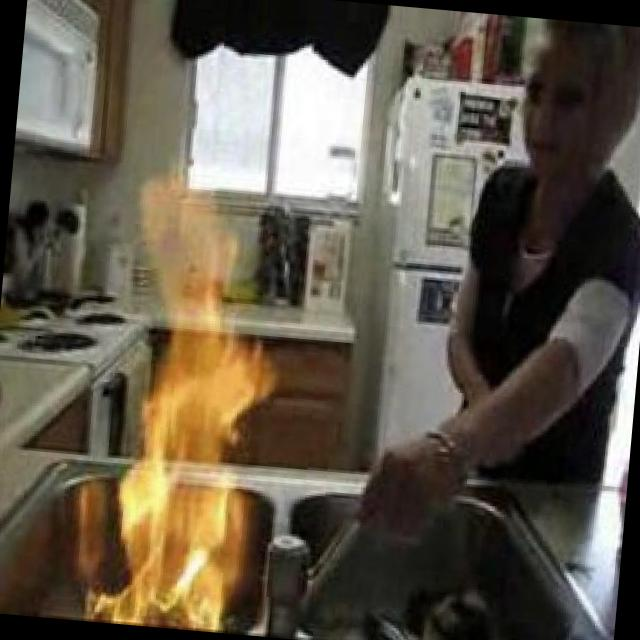Fire: (101, 171, 288, 635)
Smoke: (101, 171, 288, 635)
